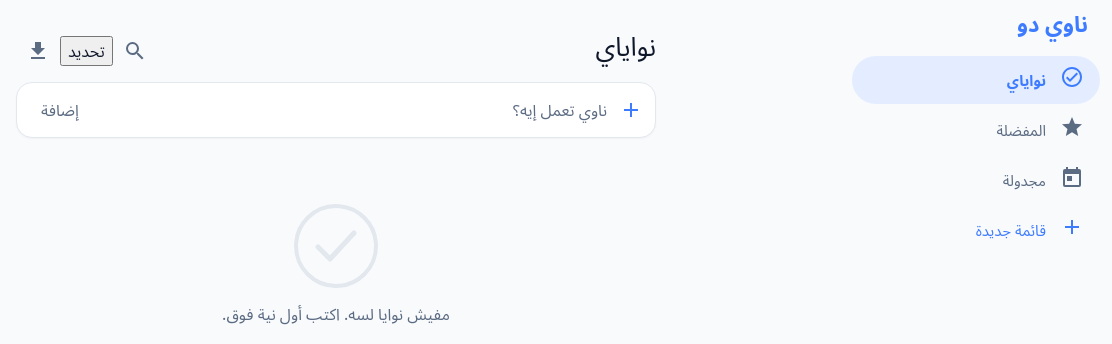
Scenario: lists › a task added in favourites is starred, and in scheduled is due today
The width and height of the screenshot is (1112, 344).
Expected: the text "مفيش نوايا لسه. اكتب أول نية فوق." is shown, [222,302,450,326]
Click the button "المفضلة": point(976, 130) [852,106,1100,154]
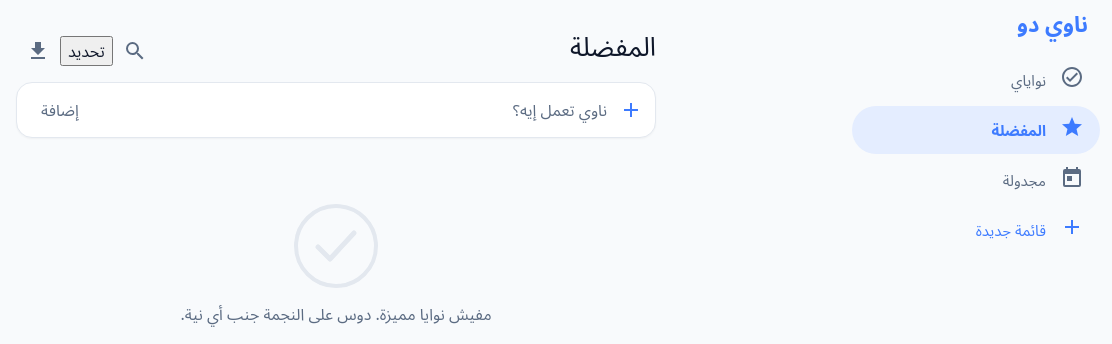
In the field labelled "ناوي تعمل إيه؟": point(358, 110) [101,86,615,134], type "مميزة جديدة"
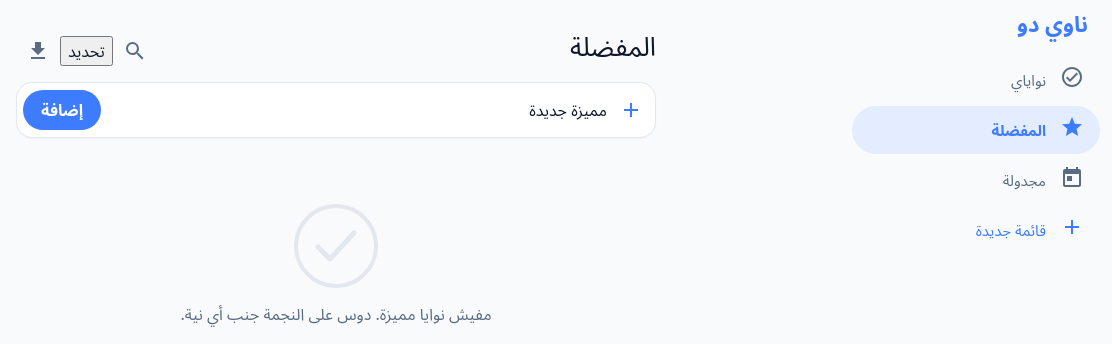
Click the button "إضافة": point(62, 110) [23,90,101,130]
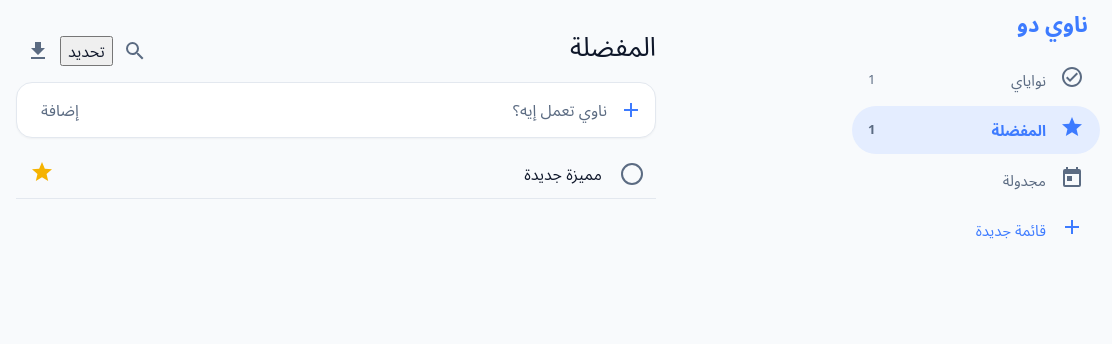
Expected: the text "مميزة جديدة" is shown, [524,163,602,185]
Click the button "مجدولة": point(976, 180) [852,156,1100,204]
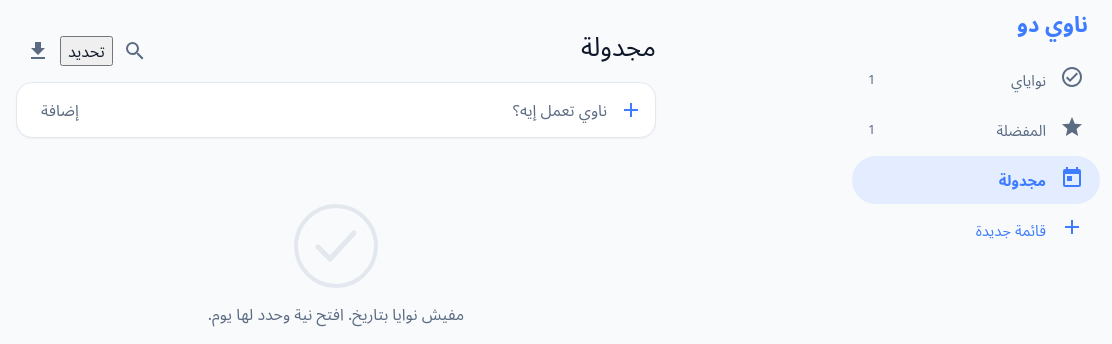
In the field labelled "ناوي تعمل إيه؟": point(358, 110) [101,86,615,134], type "اليوم"
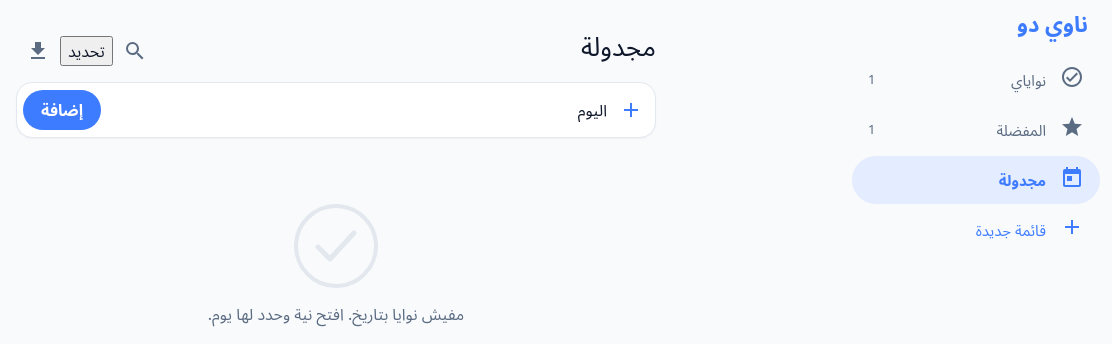
Click the button "إضافة": point(62, 110) [23,90,101,130]
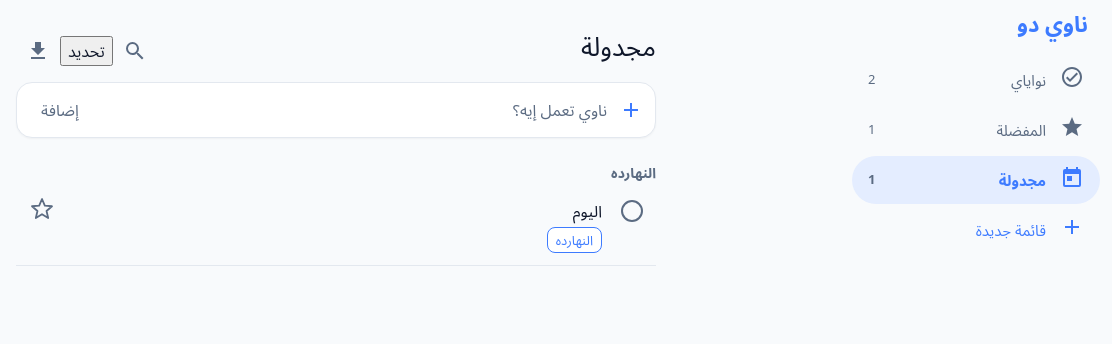
Expected: the text "اليوم" is shown, [573,200,602,222]
Expected: the heading "النهارده" is shown, [611,163,656,182]
